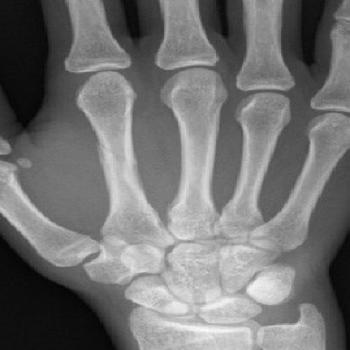Fracture: (83, 137, 140, 170)
